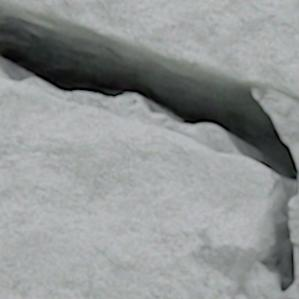brick: (0, 78, 278, 298), (0, 0, 298, 98)
crack: (0, 1, 298, 297)
